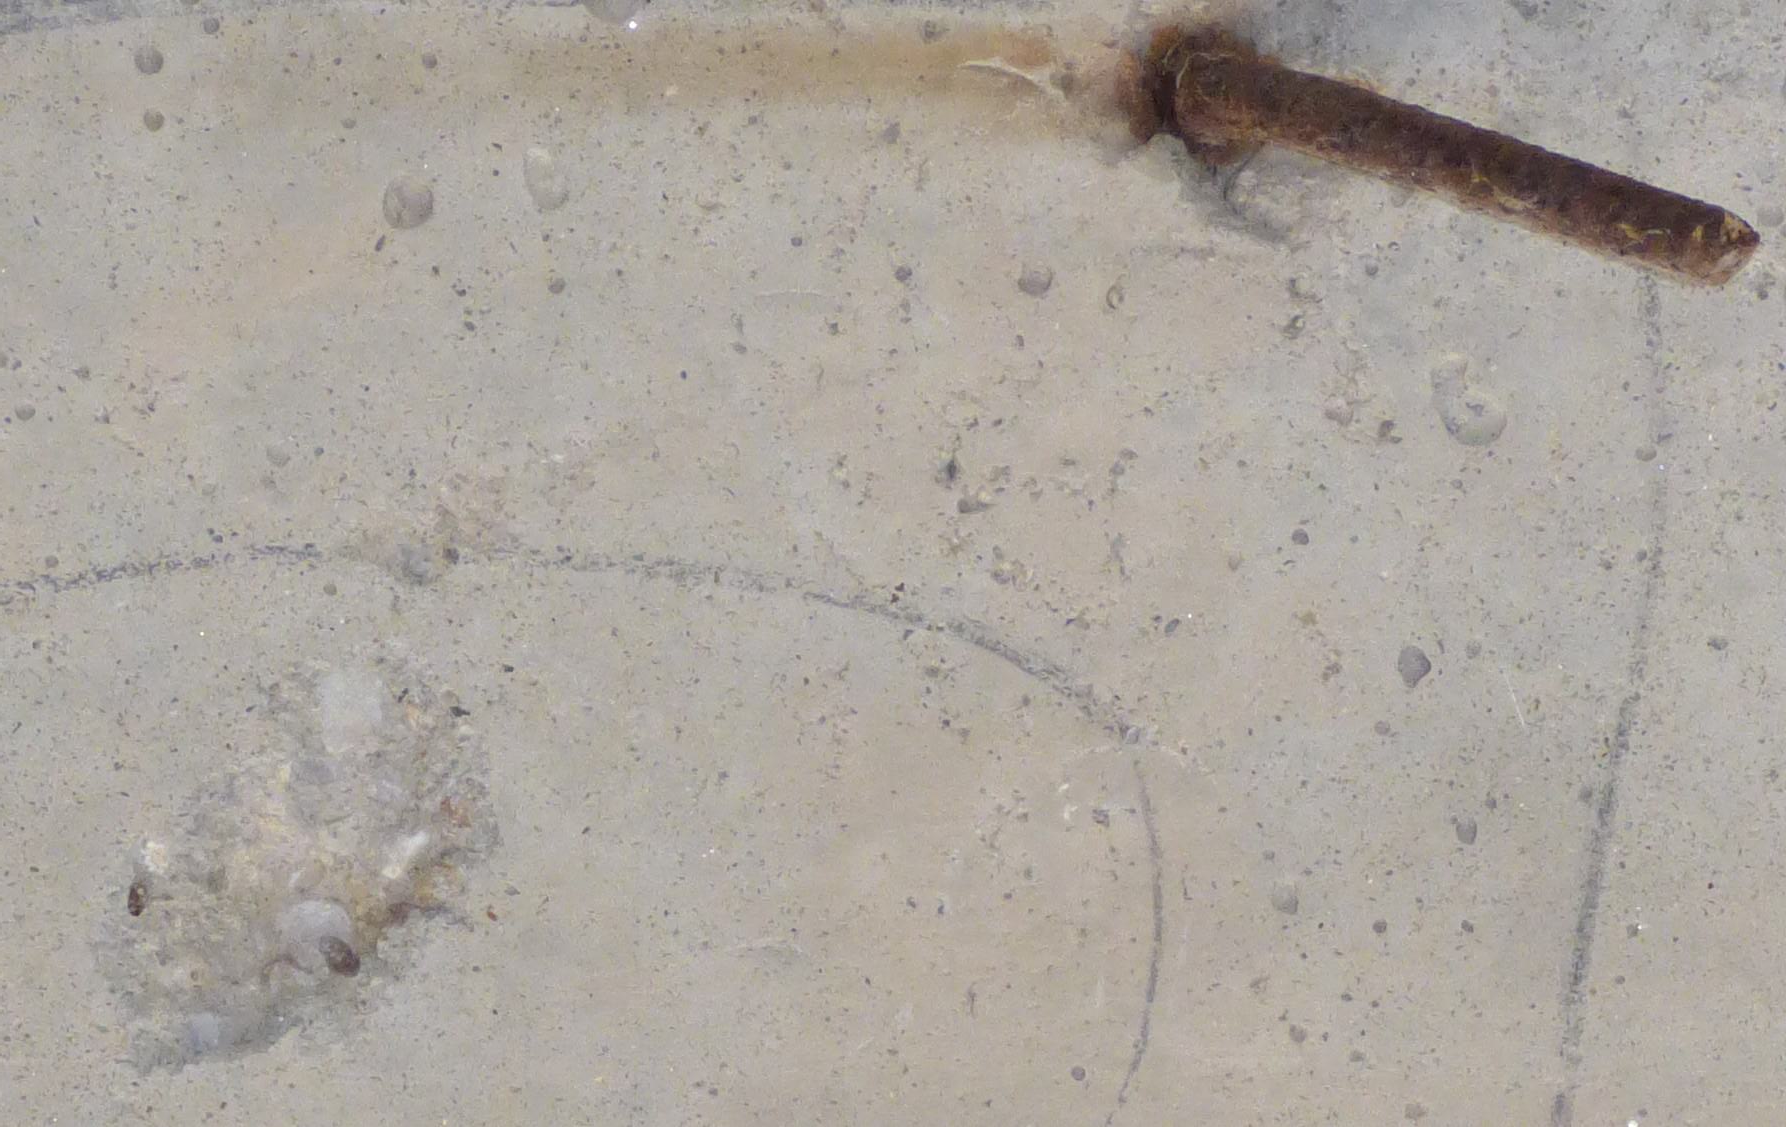Exposed reinforcement: (1173, 51, 1761, 290)
Spalling: (88, 641, 502, 1078)
